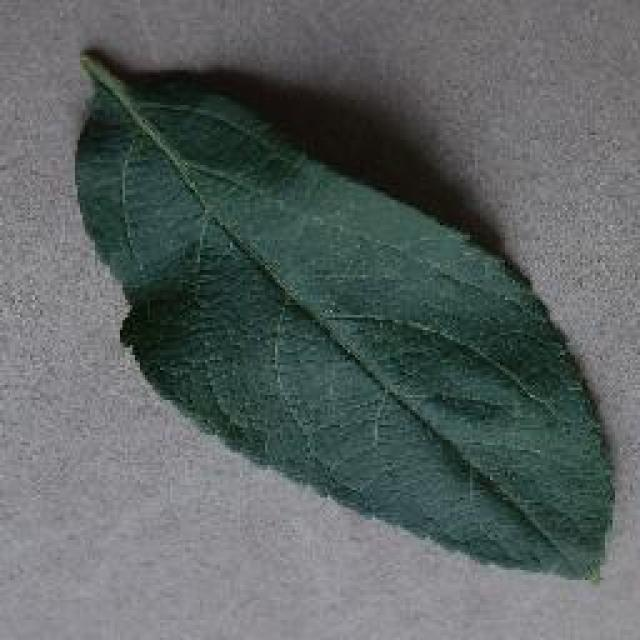apple healthy: (70, 42, 618, 582)
